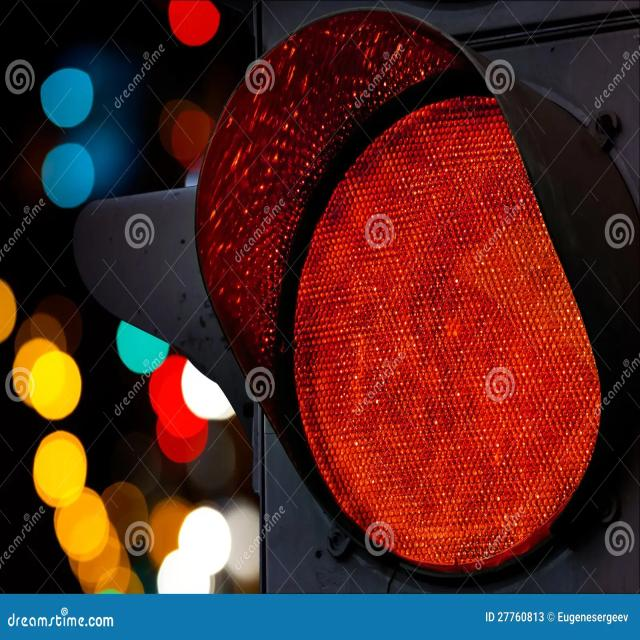red: (277, 108, 608, 570)
